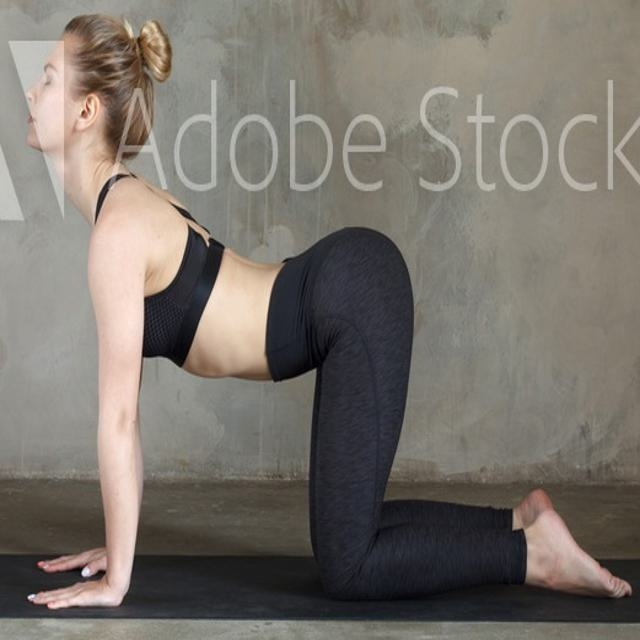Cow_Pose: (24, 16, 631, 613)
